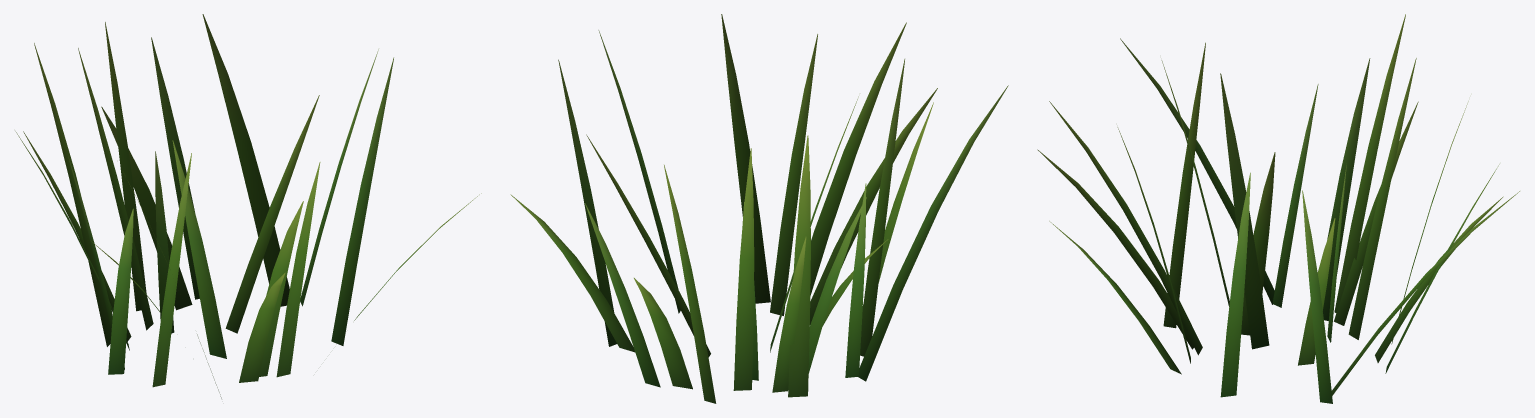
Rendered from grass-meadow.glb.
The picture shows the model from 3 angles, left to right: view 1: azimuth 30°, elevation 25°; view 2: azimuth 150°, elevation 25°; view 3: azimuth 270°, elevation 25°; orthographic projection. The views are drawn at different scales.
Parts seen in each view (by area): view 1: Grass_Meadow; view 2: Grass_Meadow; view 3: Grass_Meadow.
Boxes of the visible parts, x1,y1,x2,y2 form: Grass_Meadow: (15,14,481,398); Grass_Meadow: (510,14,1008,403); Grass_Meadow: (1037,14,1519,403).
Size of the model in its own units: 0.4849 by 0.391 by 0.6099.
